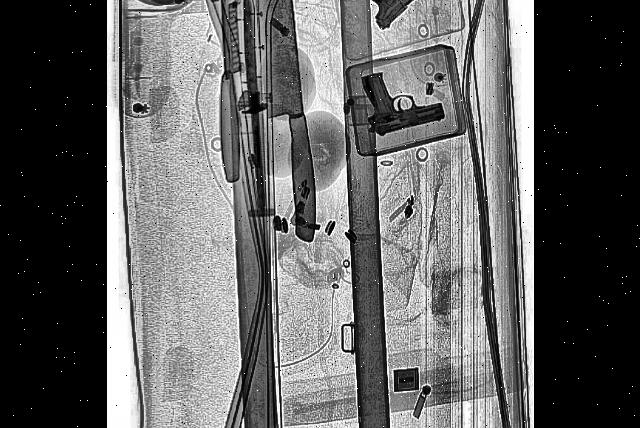Gun: (358, 56, 444, 140), (345, 0, 440, 43)
Knife: (248, 0, 318, 249), (236, 0, 267, 211), (212, 0, 240, 182)
